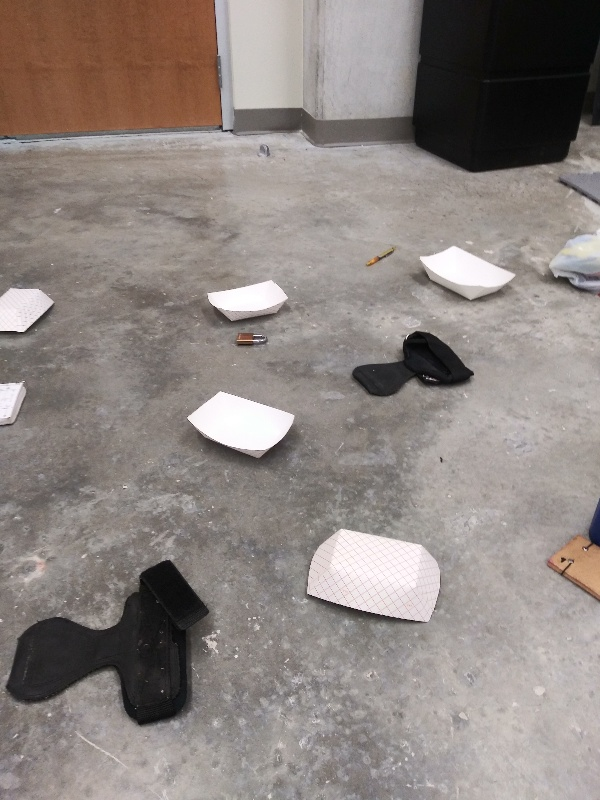plate: (303, 523, 444, 626), (181, 387, 300, 462), (414, 241, 519, 304), (205, 278, 293, 325), (1, 285, 58, 338)
